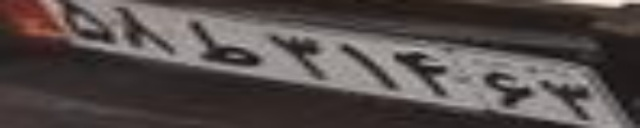1: (335, 42, 395, 90)
3: (267, 33, 327, 81), (538, 75, 596, 119)
4: (393, 43, 451, 97)
5: (61, 1, 114, 44)
6: (479, 71, 533, 109)
8: (112, 3, 176, 53)
taa: (182, 18, 259, 66)
